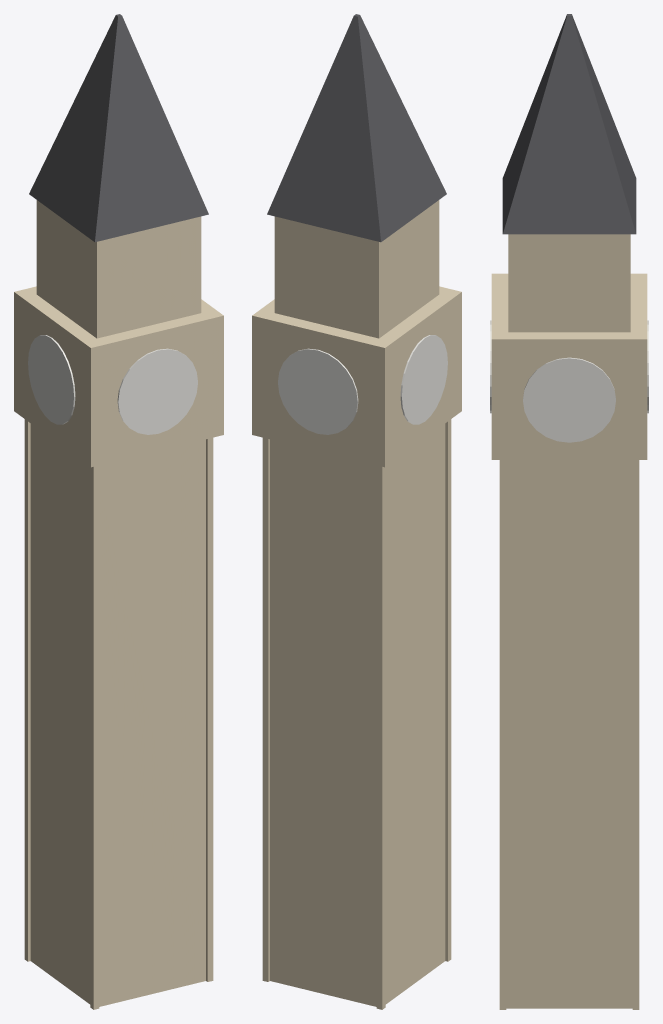
File: london.glb
3 renders of one model, left to right at view 1: azimuth 30°, elevation 25°; view 2: azimuth 150°, elevation 25°; view 3: azimuth 270°, elevation 25°, orthographic.
Parts seen in each view (by area): view 1: Cube, Cone, Cube.005, Cube.006, Cube.002, Cylinder.003, Cube.001, Cube.004, Cylinder.001; view 2: Cube, Cone, Cube.005, Cube.006, Cube.004, Cylinder.002, Cube.003, Cube.002, Cylinder.001; view 3: Cube, Cone, Cube.005, Cube.006, Cylinder, Cube.001, Cube.003.
Boxes of the visible parts, left/top/right/bottom form: Cube: left=30, top=423, right=205, bottom=1006; Cone: left=29, top=14, right=208, bottom=242; Cube.005: left=14, top=286, right=223, bottom=467; Cube.006: left=36, top=200, right=201, bottom=338; Cube.002: left=90, top=465, right=99, bottom=1009; Cylinder.003: left=117, top=348, right=197, bottom=434; Cube.001: left=206, top=437, right=213, bottom=981; Cube.004: left=24, top=419, right=30, bottom=961; Cylinder.001: left=28, top=335, right=75, bottom=424; Cube: left=270, top=423, right=445, bottom=1006; Cone: left=267, top=14, right=446, bottom=242; Cube.005: left=252, top=286, right=461, bottom=467; Cube.006: left=274, top=200, right=439, bottom=338; Cube.004: left=376, top=465, right=385, bottom=1009; Cylinder.002: left=278, top=348, right=358, bottom=434; Cube.003: left=262, top=437, right=269, bottom=981; Cube.002: left=445, top=419, right=451, bottom=961; Cylinder.001: left=400, top=335, right=447, bottom=424; Cube: left=506, top=460, right=632, bottom=1008; Cone: left=502, top=14, right=636, bottom=234; Cube.005: left=491, top=273, right=647, bottom=459; Cube.006: left=508, top=234, right=630, bottom=332; Cylinder: left=523, top=357, right=615, bottom=442; Cube.001: left=499, top=460, right=506, bottom=1009; Cube.003: left=632, top=460, right=639, bottom=1009.
Bounding box in the file's own units: 14.3 × 96 × 14.3.
